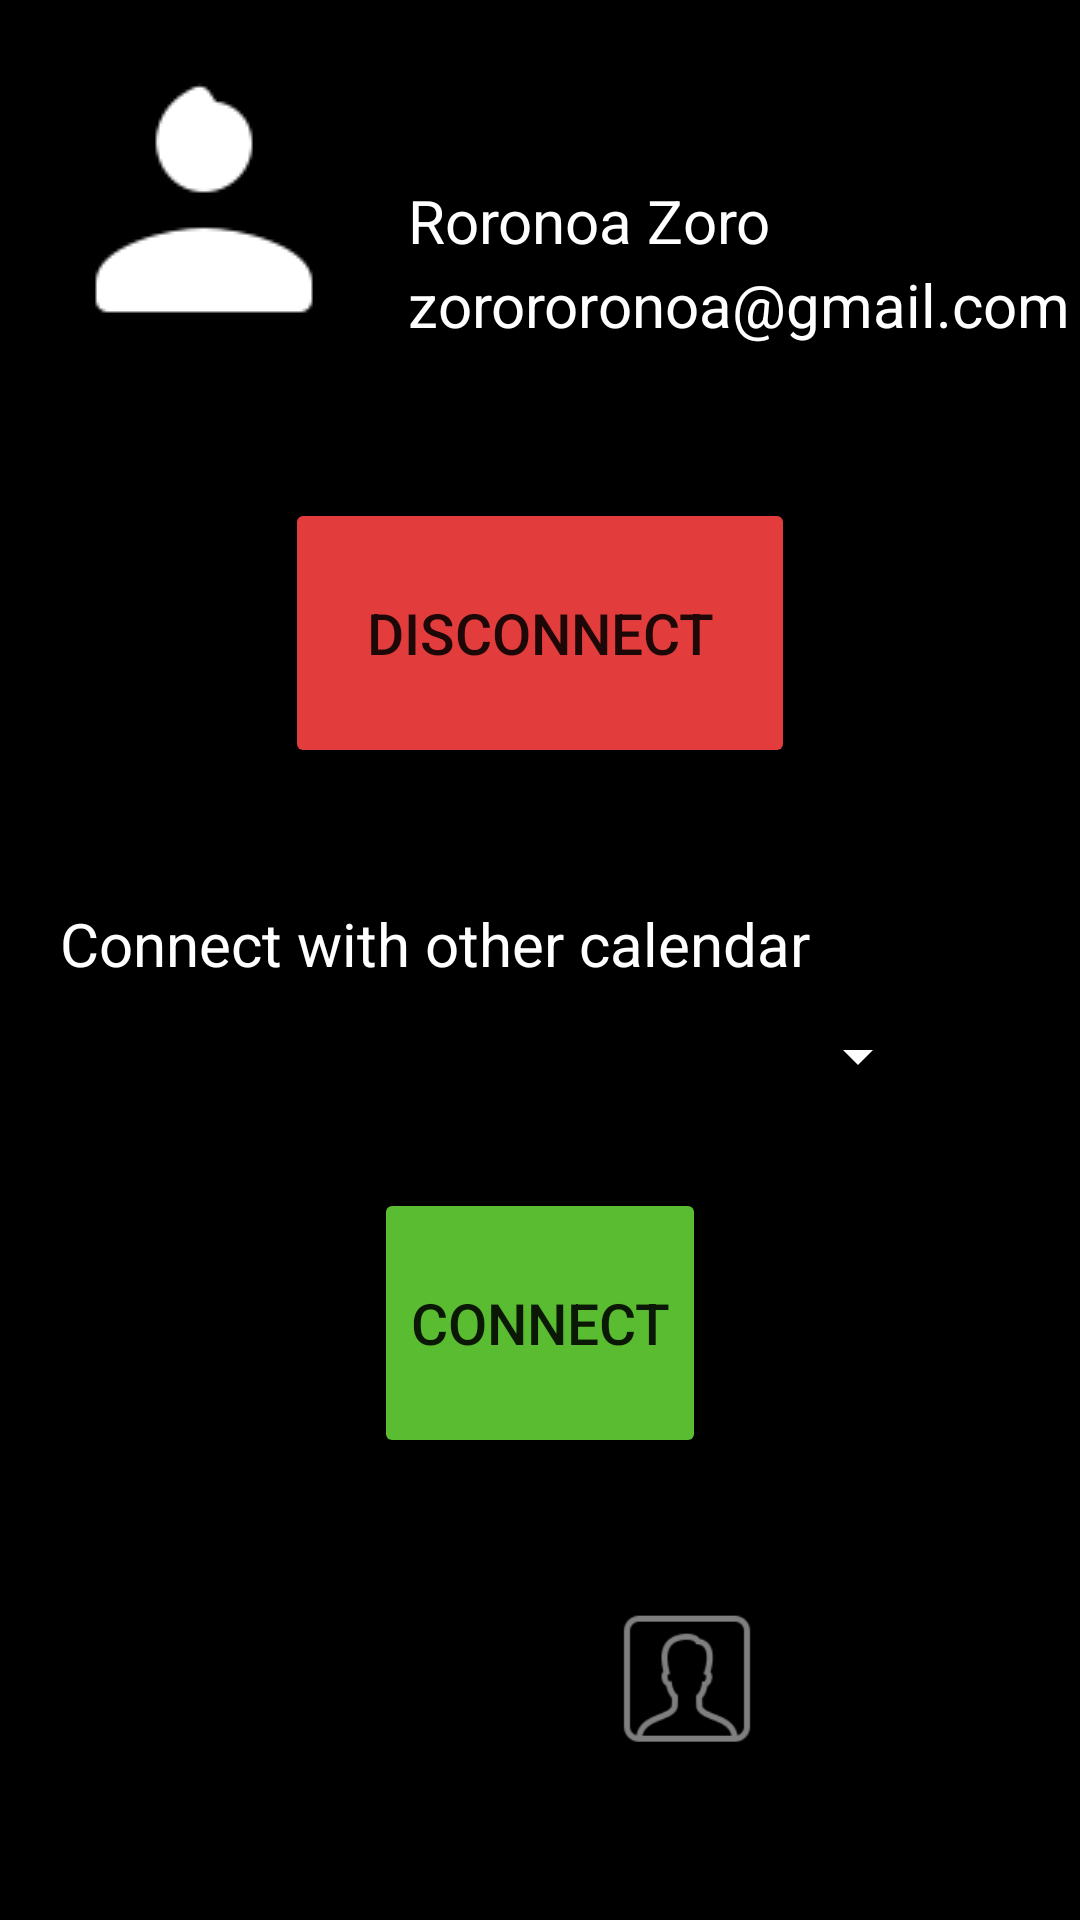

Icon click points for this 1080w x 1920h phone screenshot, format (x=x, y=y):
profile: (x=204, y=199)
